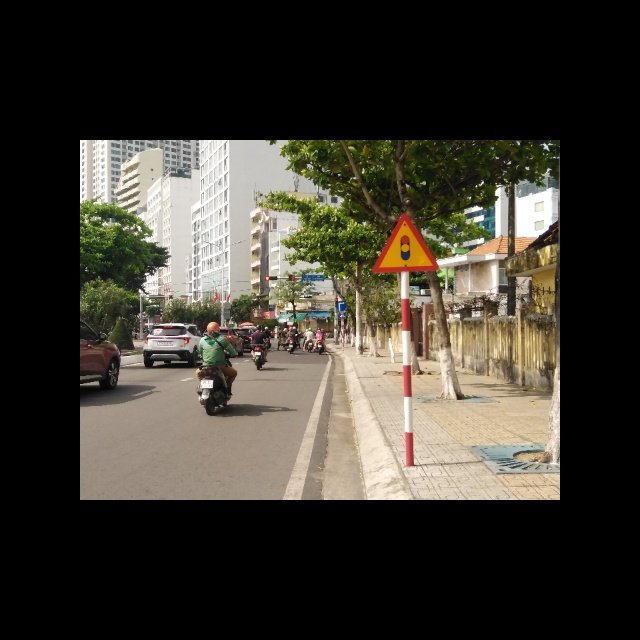Giao nhau có tín hiệu đèn: (372, 209, 440, 274)
